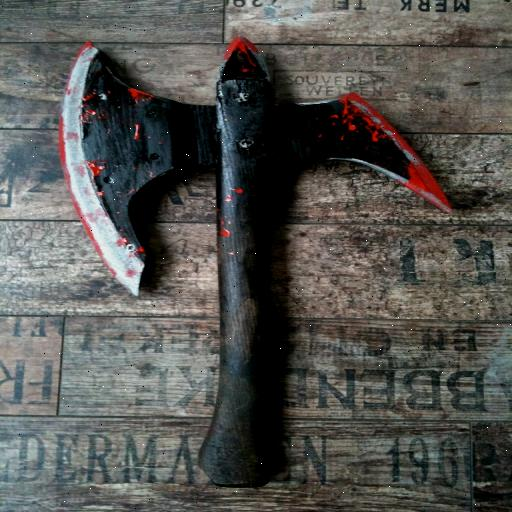Axe: (58, 40, 447, 492)
